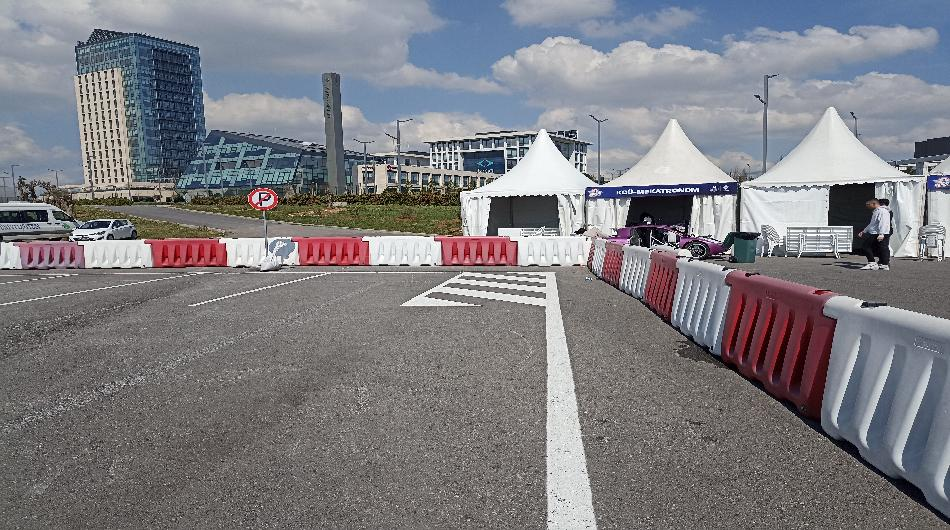park_yapilmaz_3: (249, 188, 279, 212)
park_yapilmaz_yerde: (394, 266, 562, 320)
